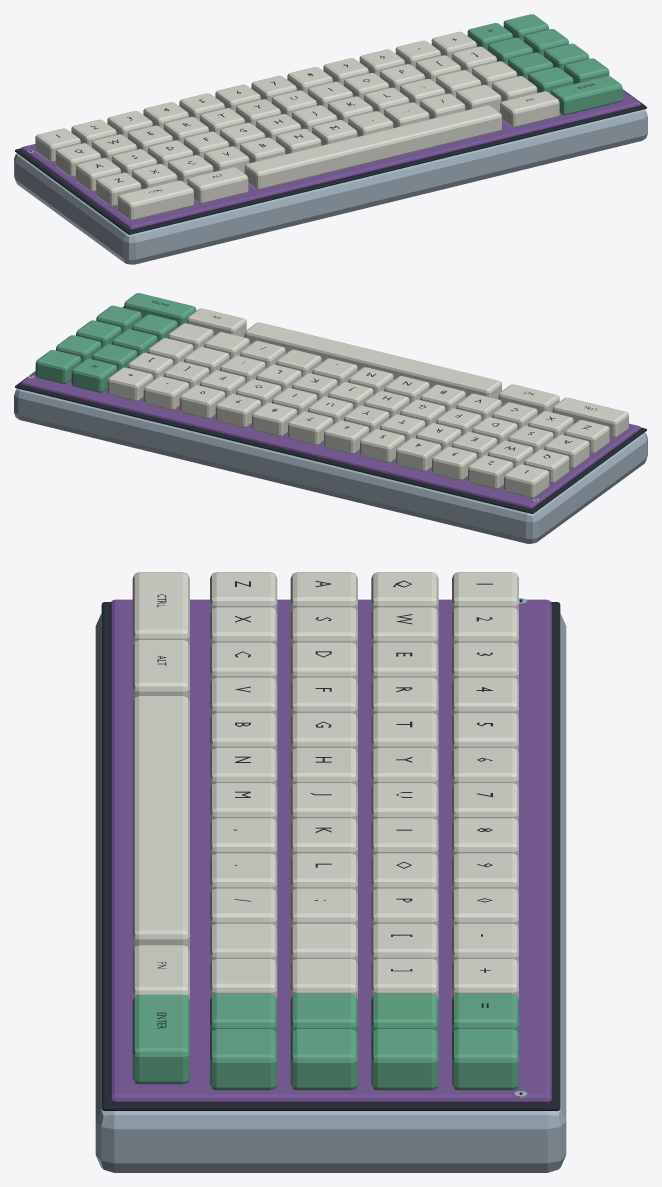
File: keyboard.glb
3 renders of one model, top to bottom at view 1: azimuth 30°, elevation 25°; view 2: azimuth 150°, elevation 25°; view 3: azimuth 270°, elevation 25°, orthographic. The views are drawn at different scales.
Visible parts, largest first — view 1: keyboard; view 2: keyboard; view 3: keyboard.
Boxes of the visible parts, bbox=[...] form: keyboard: bbox=[14, 14, 647, 264]; keyboard: bbox=[14, 293, 647, 543]; keyboard: bbox=[95, 572, 566, 1172].
Size of the model in its own units: 0.72 by 0.0735 by 0.28.
